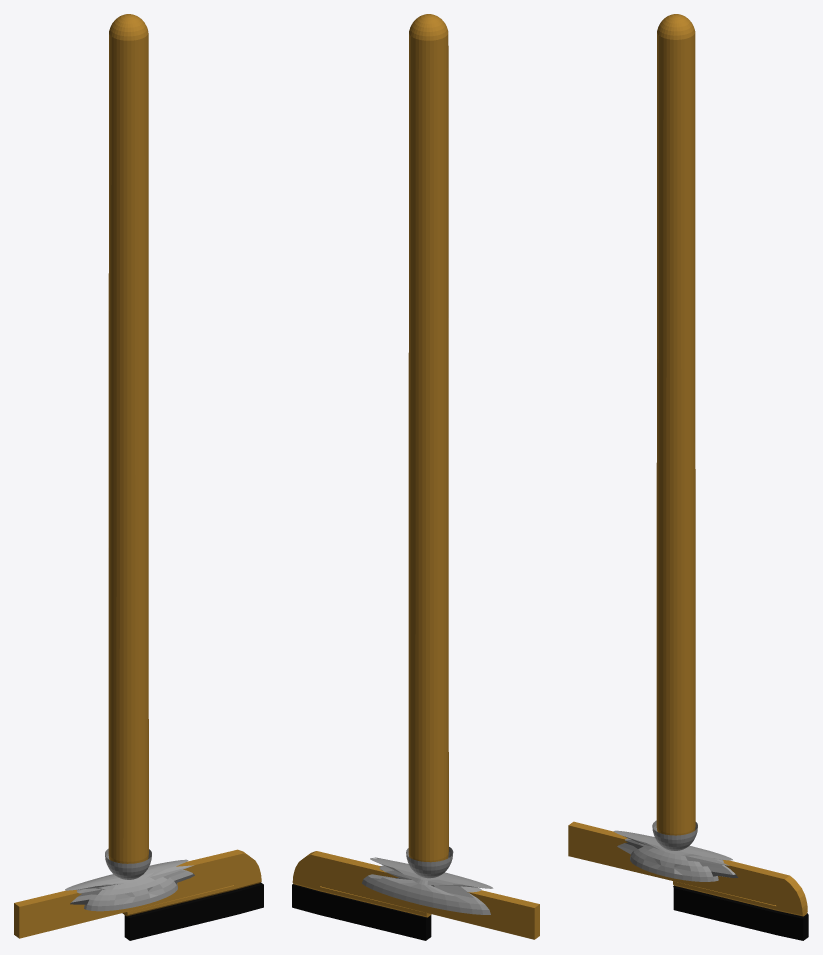
File: houki.glb
3 views of the same model, side by side, from view 1: azimuth 30°, elevation 25°; view 2: azimuth 150°, elevation 25°; view 3: azimuth 330°, elevation 25° (orthographic). The views are drawn at different scales.
Parts seen in each view (by area): view 1: ほうき; view 2: ほうき; view 3: ほうき.
Boxes of the visible parts, x1,y1,x2,y2 form: ほうき: [14, 14, 263, 940]; ほうき: [292, 14, 539, 940]; ほうき: [568, 14, 808, 940].
Size of the model in its own units: 1.26 by 4.56 by 0.2118.
